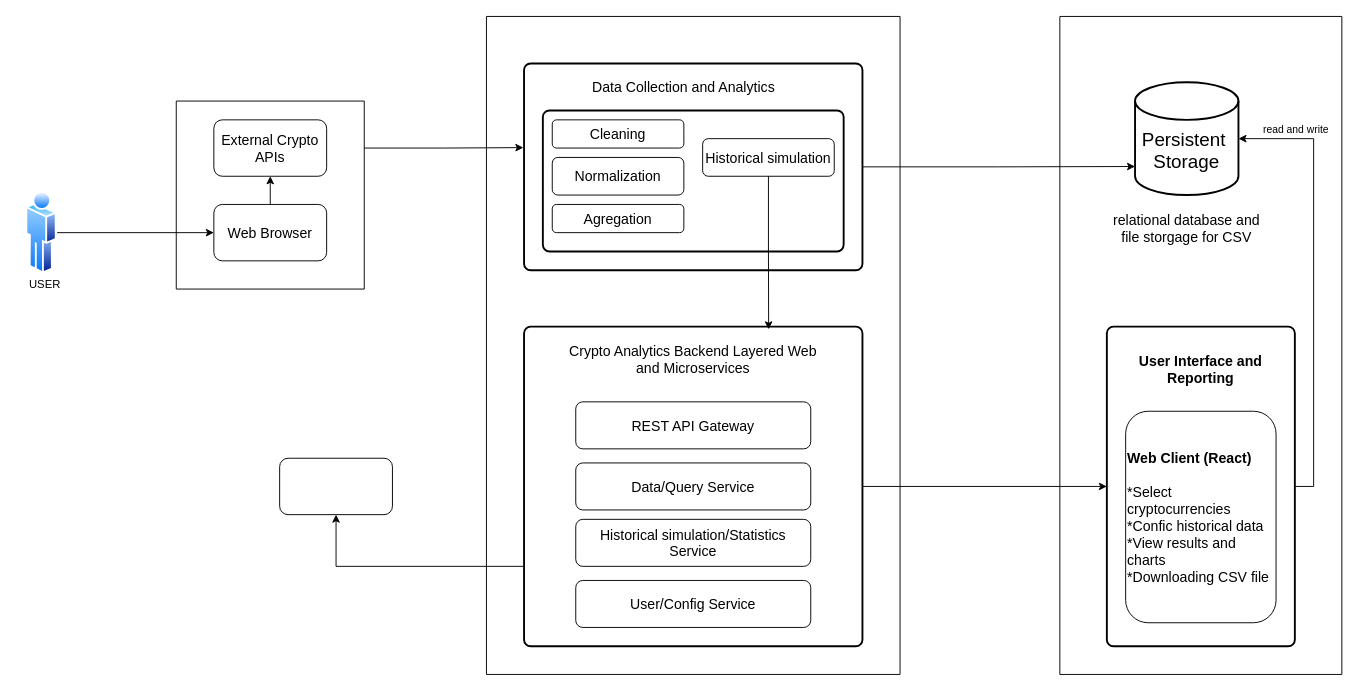
The diagram is 1358 pixels wide and 691 high, and some of its shapes have lost their labels. The shapes that lost their labels are listed below. From the top down, each one's centre as x and y in pixels, then its label:
At [693,345]: "Web Server".
At [1200,345]: "Application Server".
At [335,486]: "Time Scheduler (worker)".
